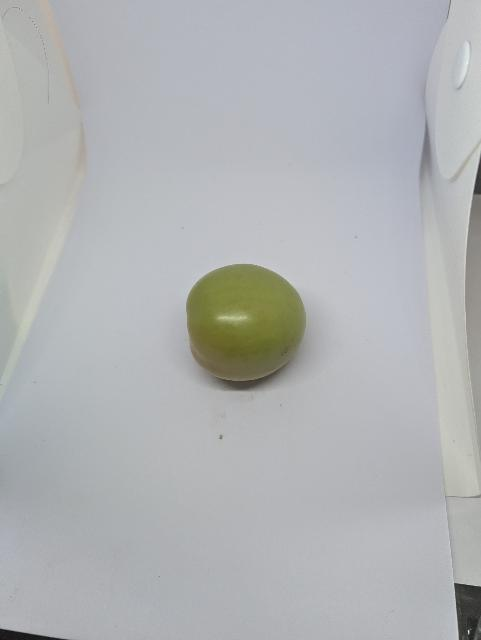green: (168, 253, 322, 405)
